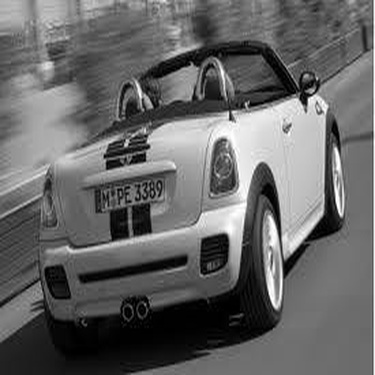car: (25, 25, 344, 331)
